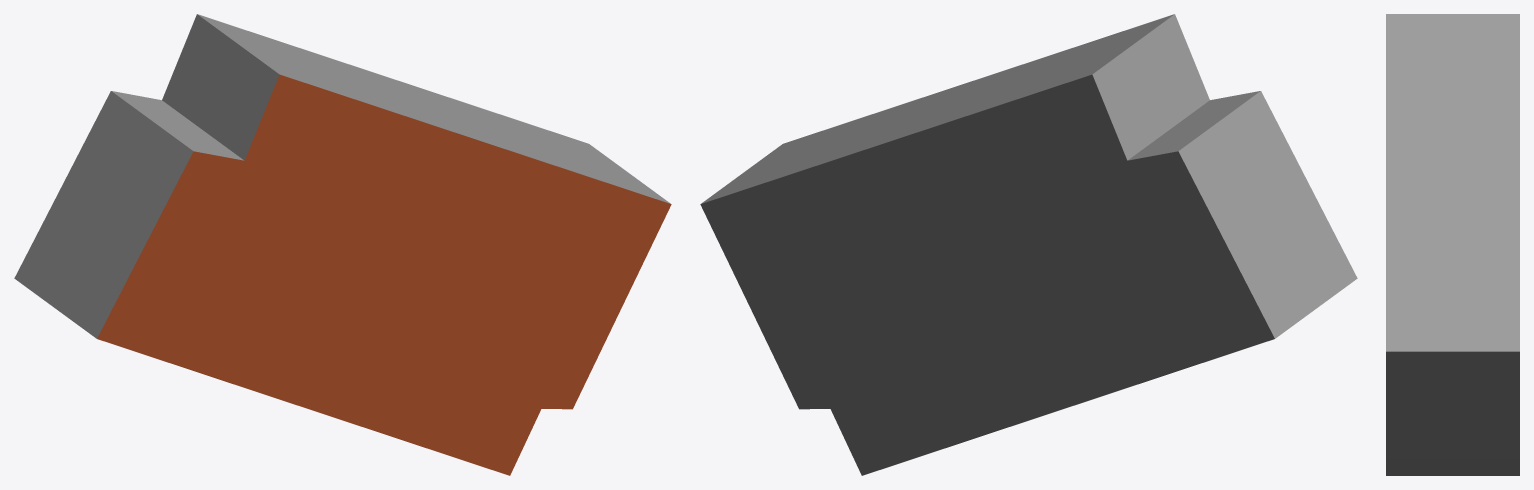
The model's file is construction_2181_assumed_A_Casa_h6m.obj.
The picture shows the model from 3 angles, left to right: view 1: azimuth 30°, elevation 25°; view 2: azimuth 150°, elevation 25°; view 3: azimuth 270°, elevation 25°; orthographic projection. The views are drawn at different scales.
Visible parts, largest first — view 1: construction_2181_assumed_A_Casa; view 2: construction_2181_assumed_A_Casa; view 3: construction_2181_assumed_A_Casa.
Boxes of the visible parts, left/top/right/bottom form: construction_2181_assumed_A_Casa: left=14, top=14, right=671, bottom=475; construction_2181_assumed_A_Casa: left=700, top=14, right=1357, bottom=475; construction_2181_assumed_A_Casa: left=1386, top=14, right=1519, bottom=475.
Size of the model in its own units: 24.1 by 18.34 by 6.
